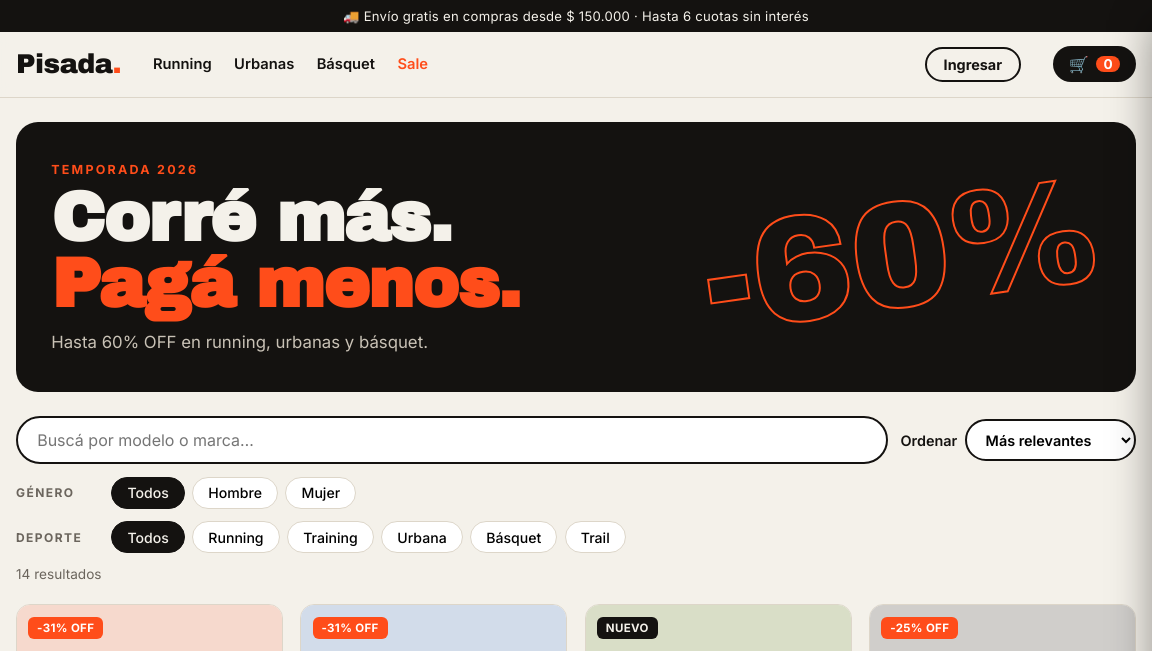
Scenario: Login y panel admin (R8 · R9) › CA-8.6 logout → vuelve el link de Ingresar
Click the link "Ingresar" at coordinates (973, 64), box [925,47,1021,82]
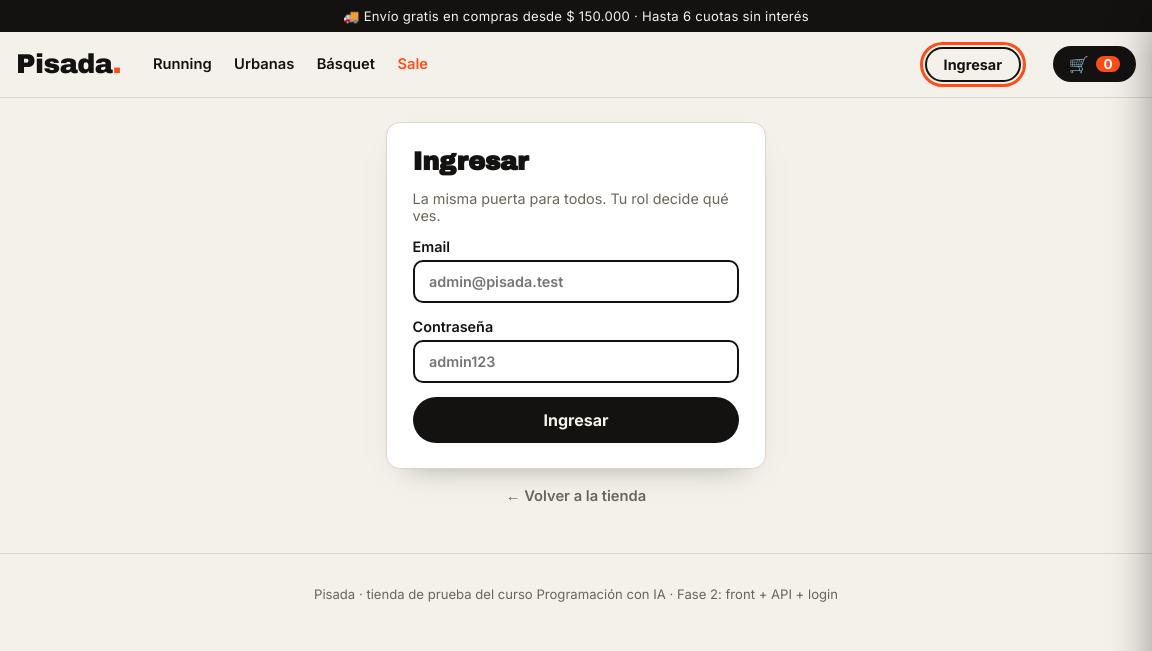
Type "cliente@pisada.test" into the field labelled "Email" at coordinates (576, 282), box [413,260,739,303]
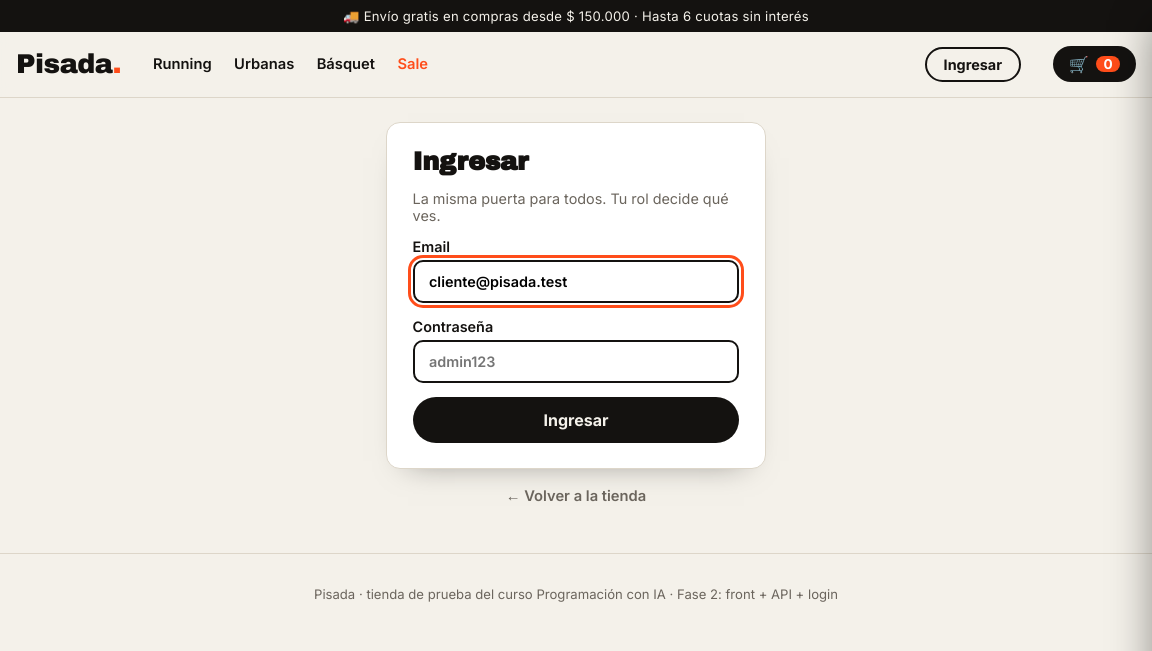
Type "cliente123" into the password field labelled "Contraseña" at coordinates (576, 361), box [413,340,739,383]
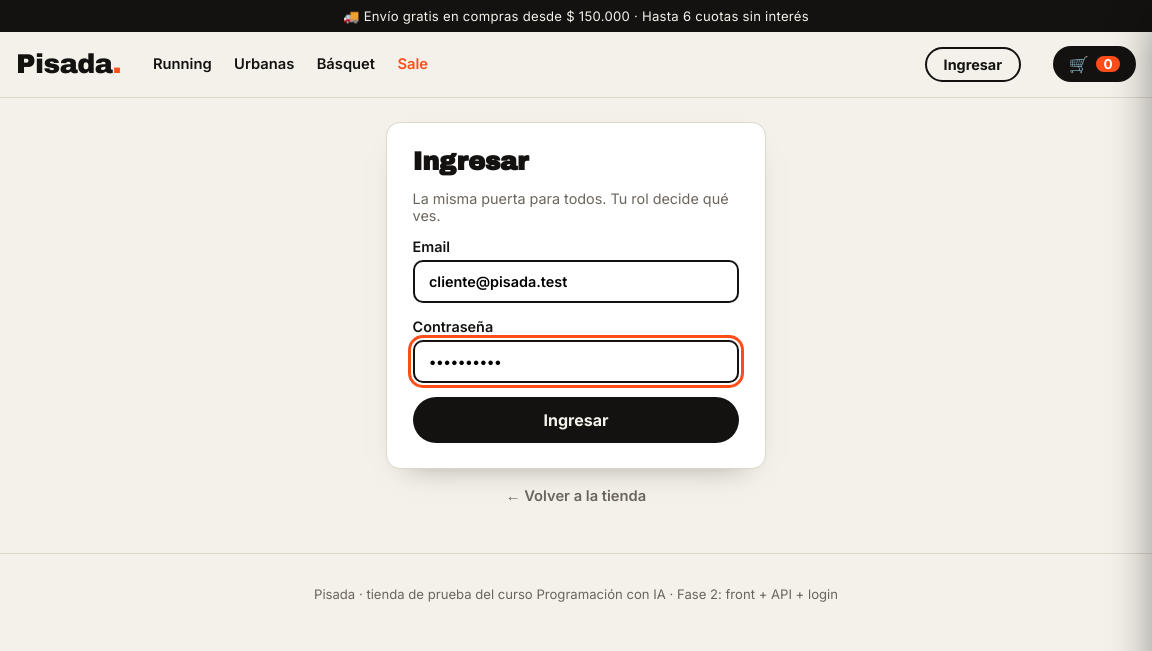
Click the button "Ingresar" at coordinates (576, 420), box [413,397,739,443]
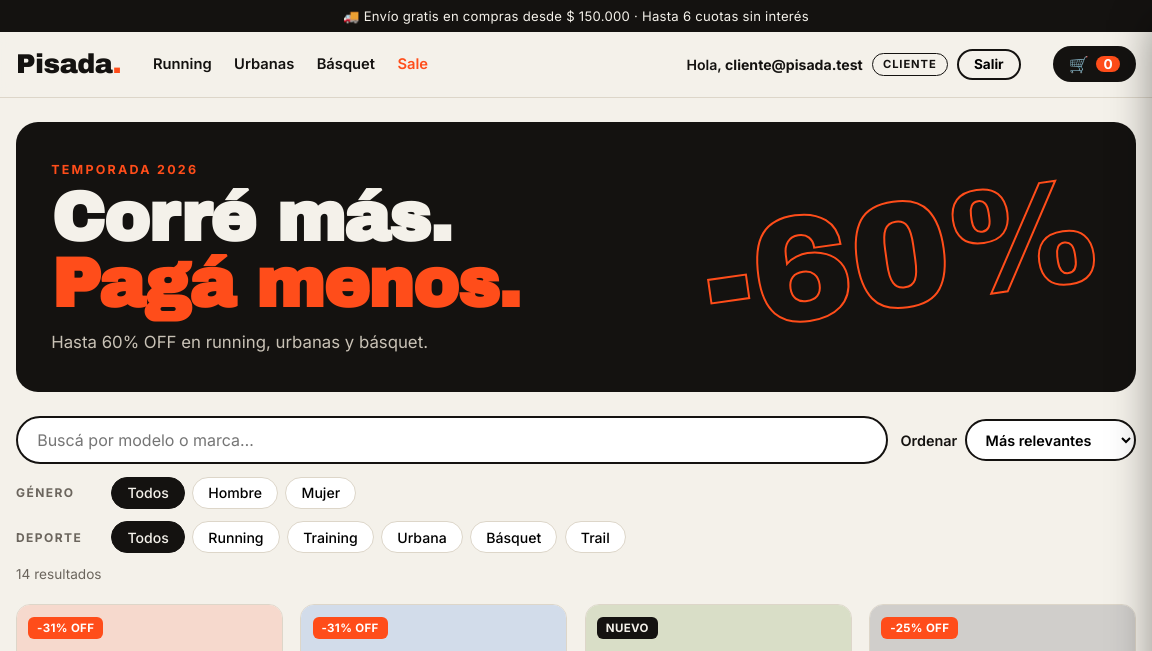
Click the button "Salir" at coordinates (989, 64), box [957,49,1021,80]
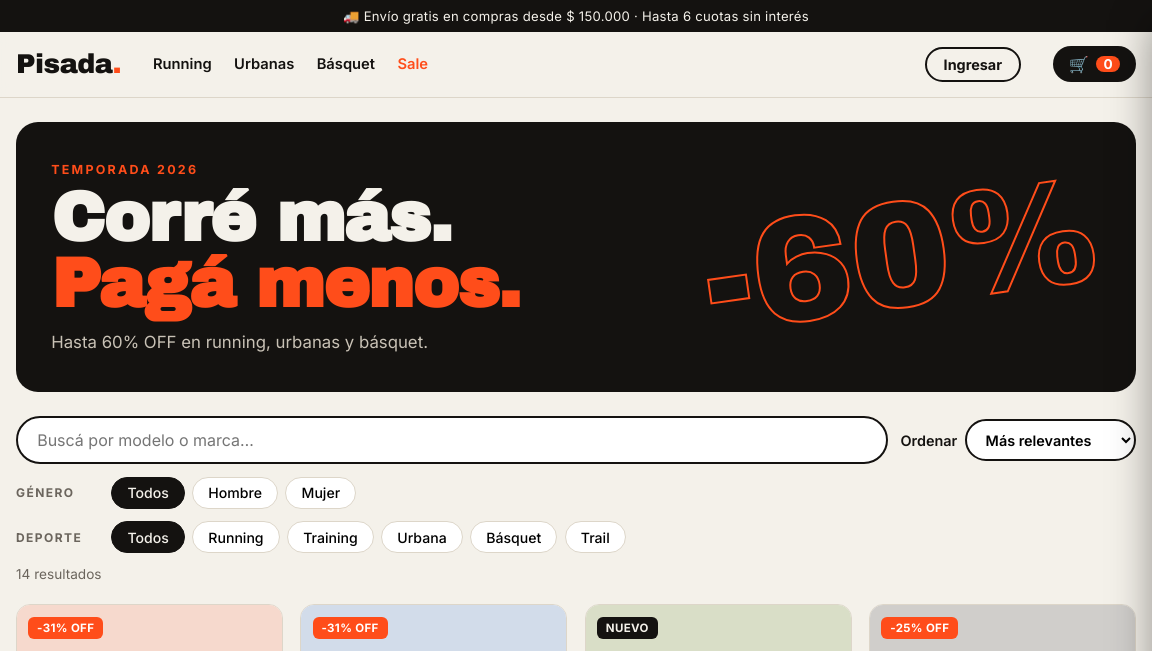
Check: the link "Ingresar" is shown, box [925,47,1021,82]
